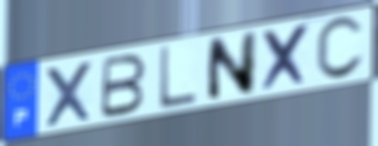B: (98, 52, 149, 121)
C: (313, 14, 366, 83)
L: (157, 43, 199, 112)
N: (205, 29, 260, 105)
X: (260, 21, 313, 95), (43, 58, 95, 130)
